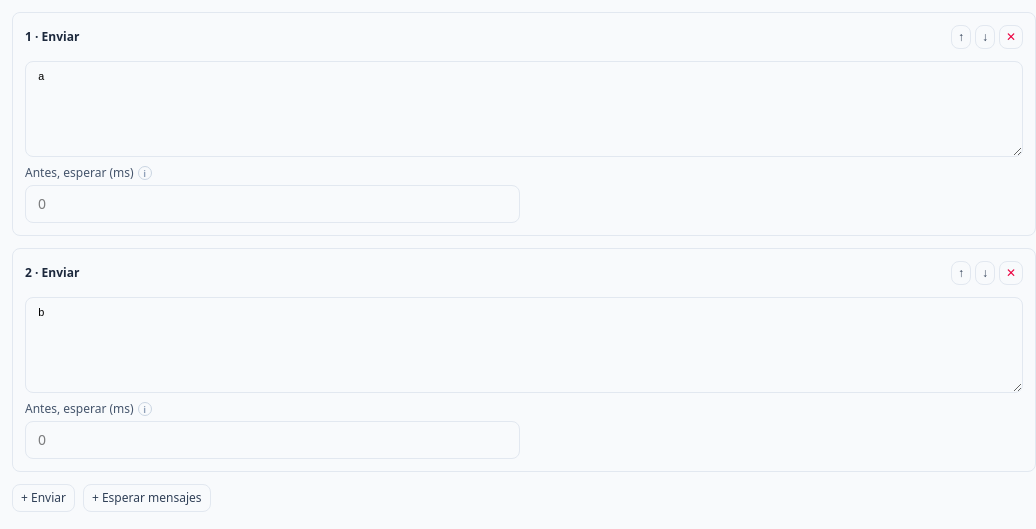
Scenario: el orden del guion › quitar borra solo esa acción, y sin acciones se explica qué hace la sesión
Click the button named "Quitar la acción 1": [1011, 37] box [999,25,1023,49]
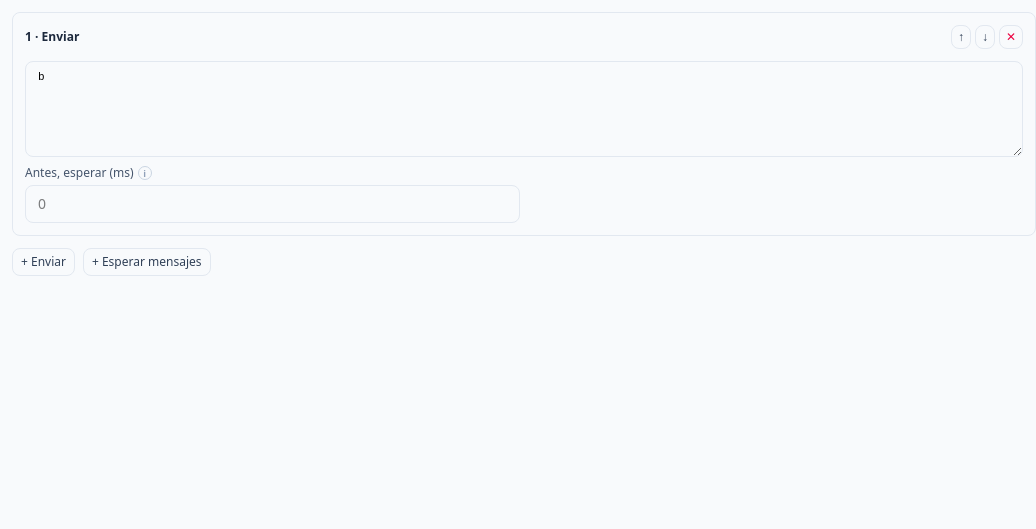
Click the button named "Quitar la acción 1": [1011, 37] box [999,25,1023,49]
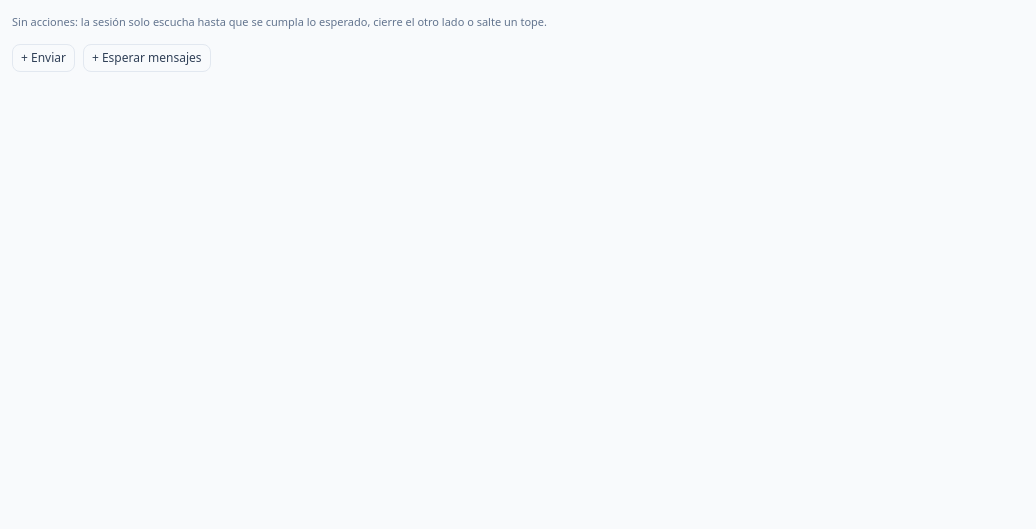
Expected: the text "Sin acciones: la sesión solo escucha" is shown, [12,14,547,29]
